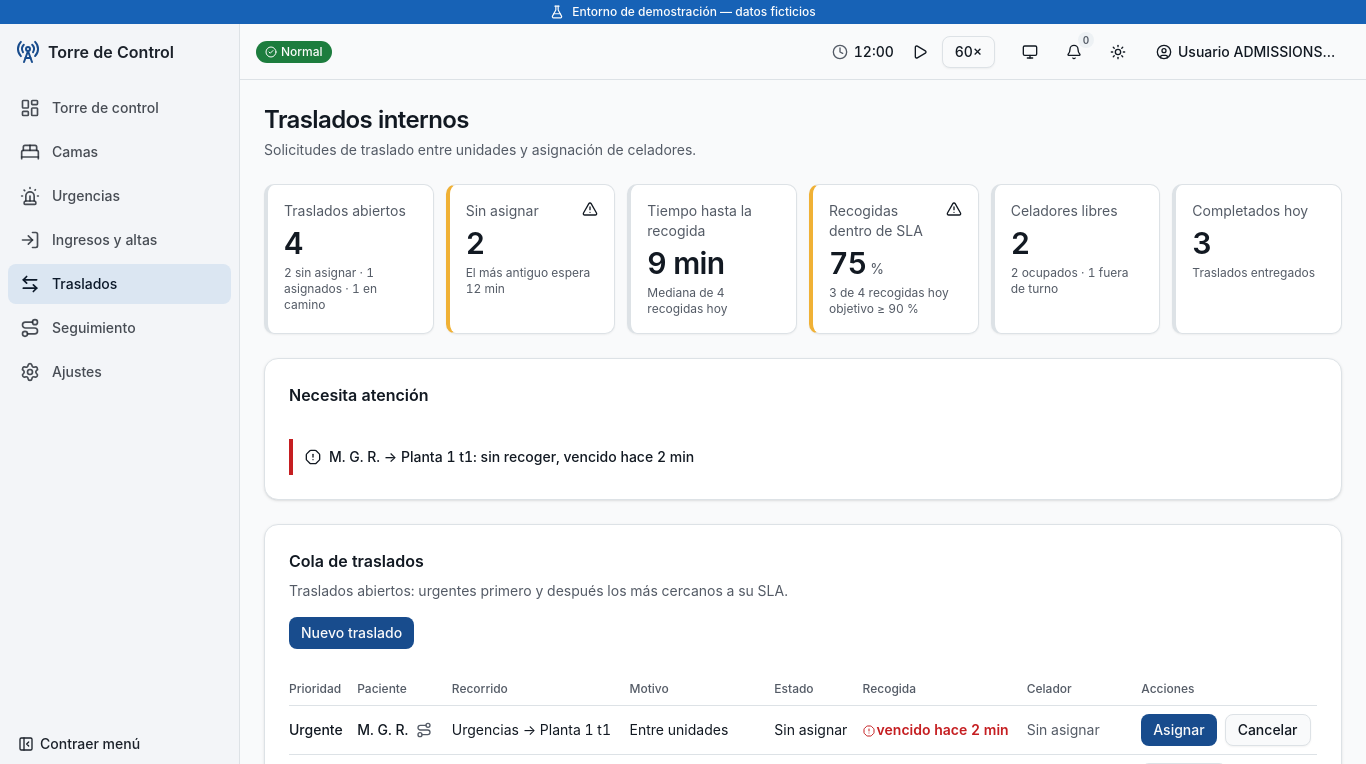
Test: Traslados: dispatch board › opens the new-transfer sheet for the head
Check: the heading "Traslados internos" is shown, box 264,105 -> 469,134
Click the button "Nuevo traslado". click: (352, 633)
box: 289,617 -> 414,649
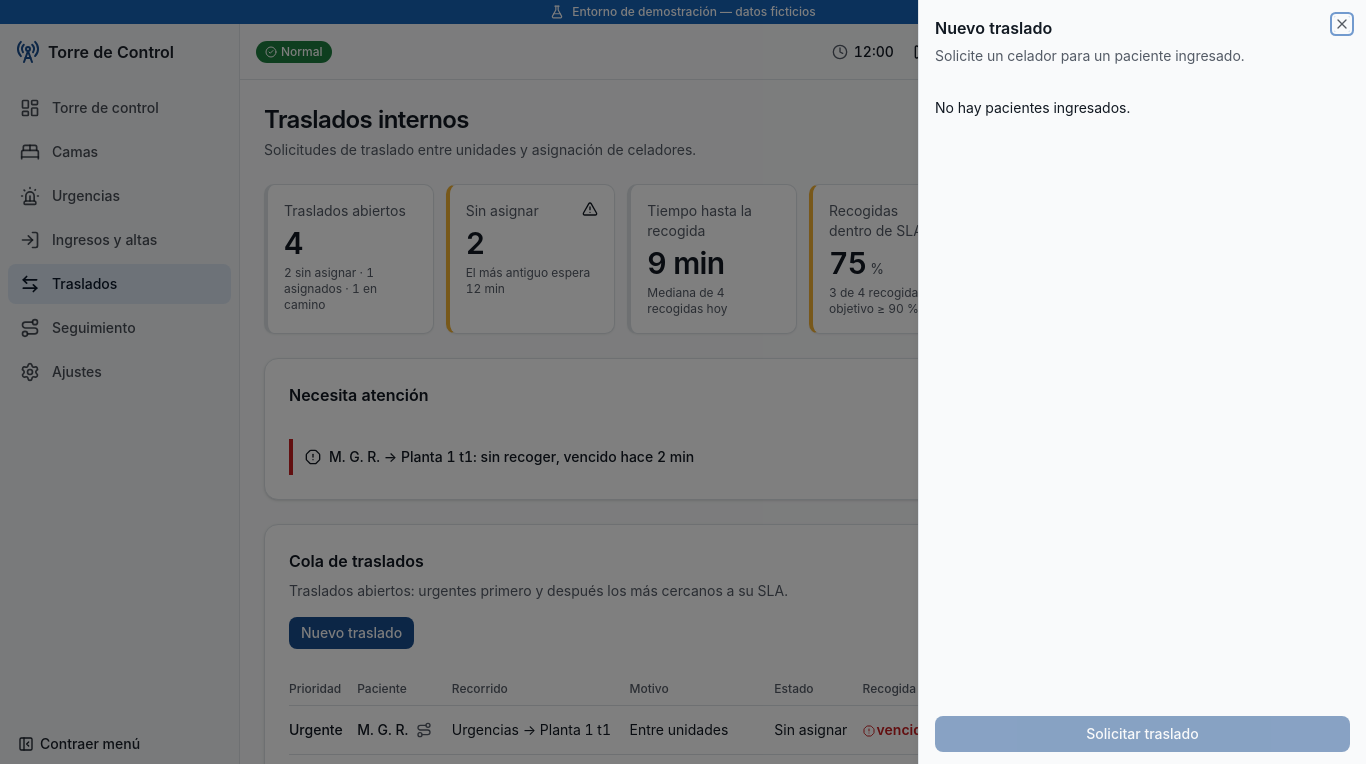
Check: the text "No hay pacientes ingresados." is shown, box 935,99 -> 1130,116
